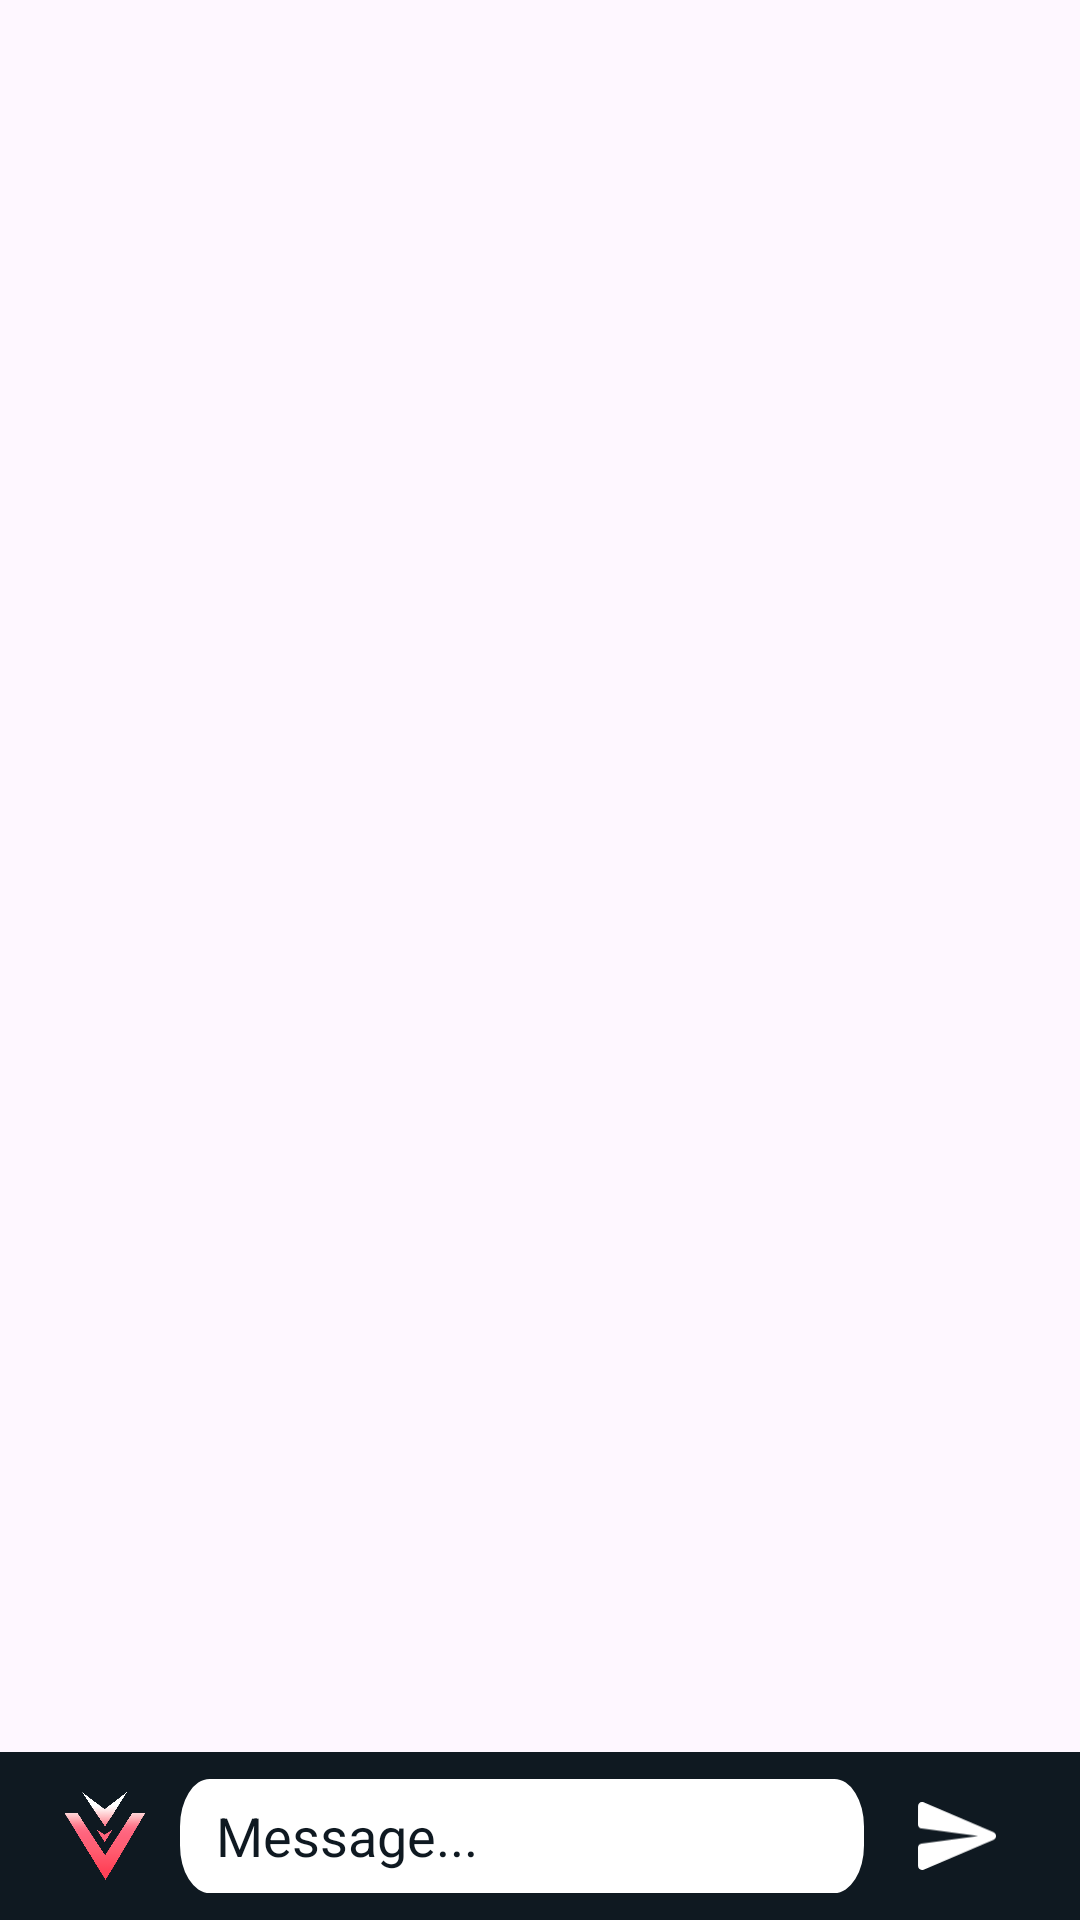

Where to tap for icons on this 1080x1920 app screen, as [x,y]:
Send: [957,1836]
